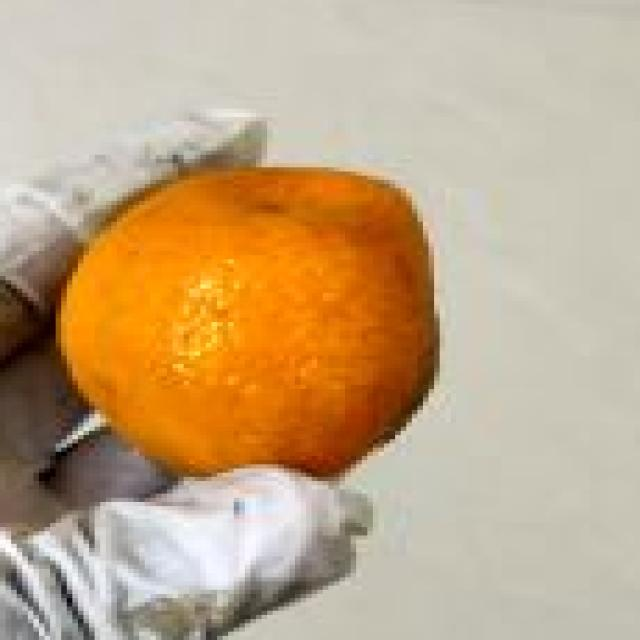Bad_Orange-0-1 day: (50, 167, 440, 481)
